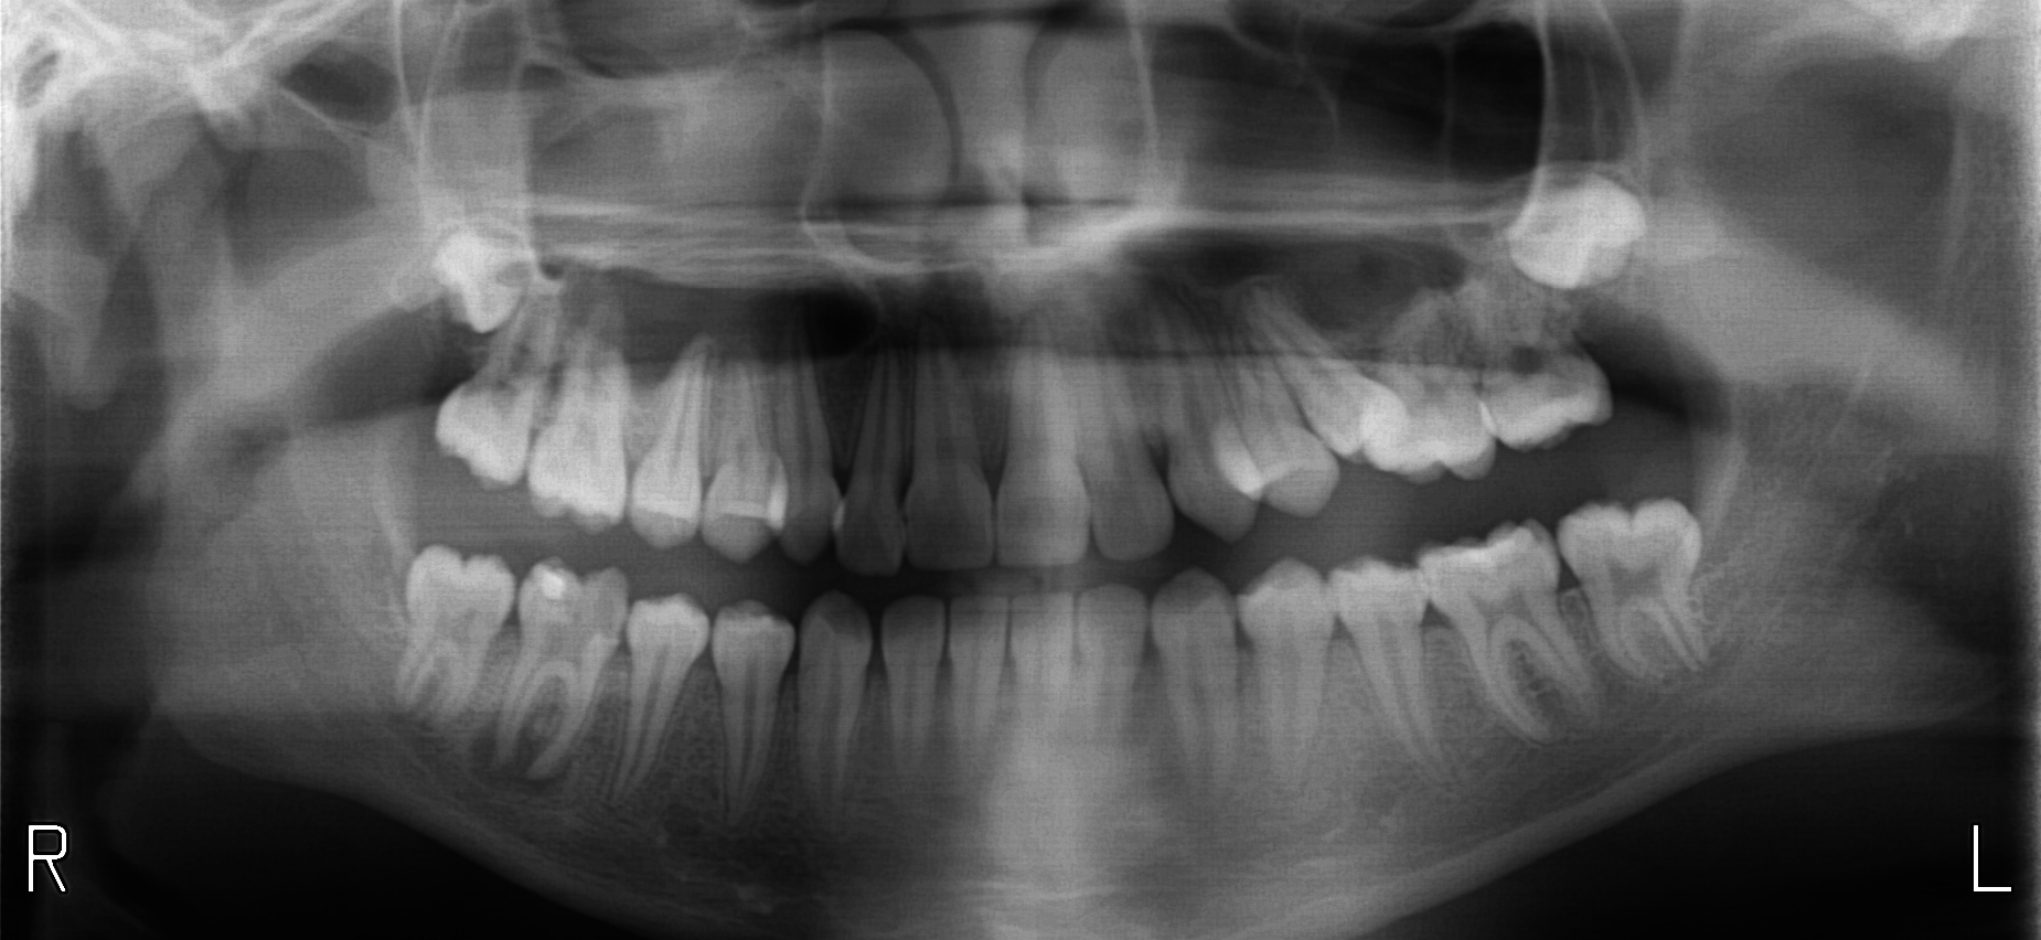cavity: (591, 592, 623, 639)
